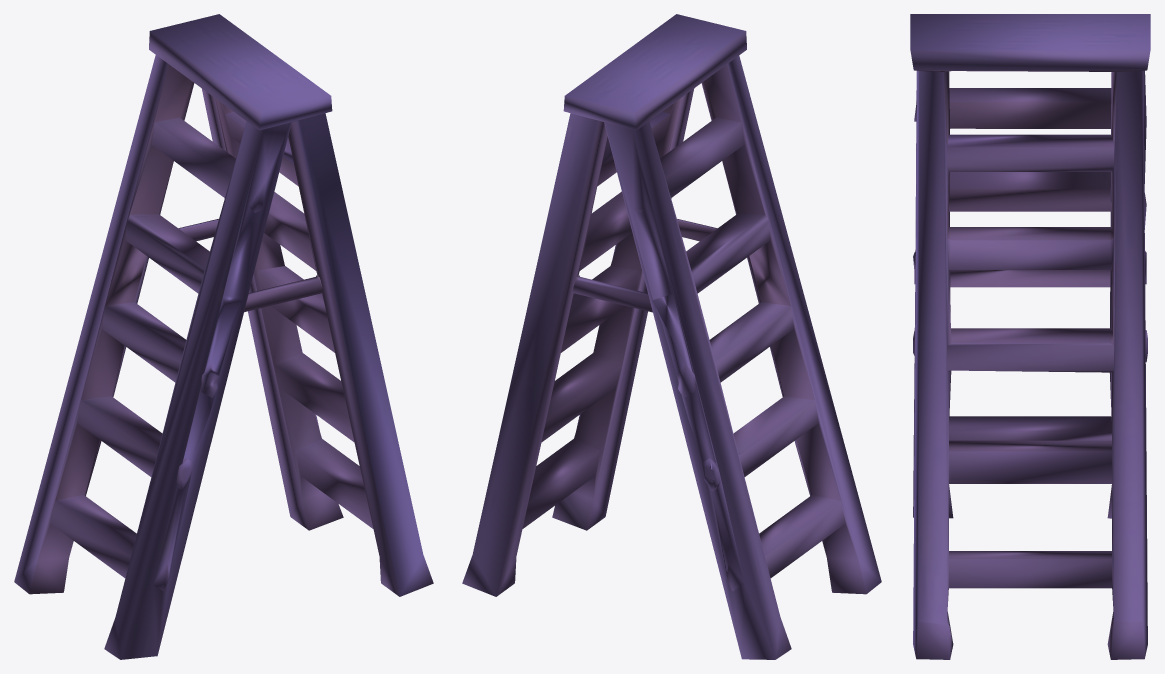
File: model.progressive.glb
3 views of the same model, side by side, from view 1: azimuth 30°, elevation 25°; view 2: azimuth 150°, elevation 25°; view 3: azimuth 270°, elevation 25° (orthographic). The views are drawn at different scales.
Visible parts, largest first — view 1: material; view 2: material; view 3: material.
Part boxes in pixels (box(x1,y1,x2,y2)): material: box(14, 14, 433, 659); material: box(462, 14, 881, 659); material: box(910, 14, 1150, 659).
Size of the model in its own units: 1.19 by 1.89 by 0.7323.
Materials: 1 (1 with a texture image).
